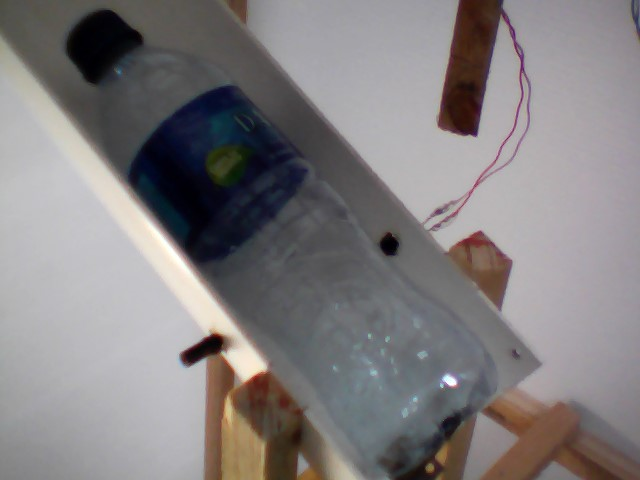plastico: (64, 6, 502, 480)
